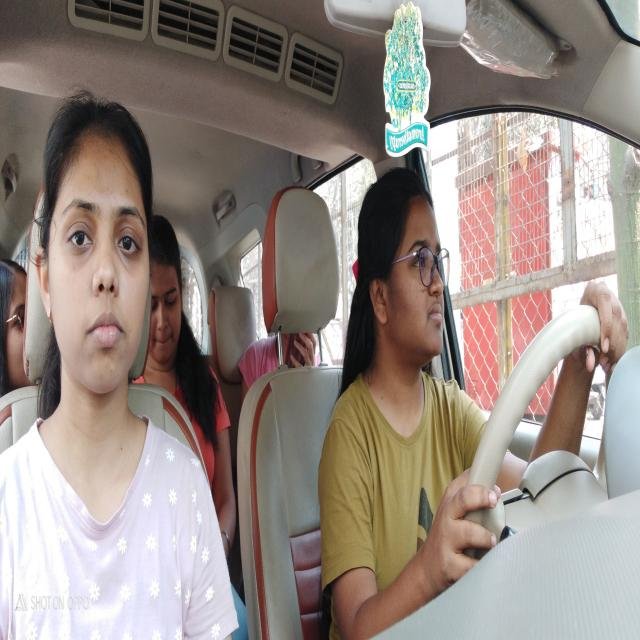person: (47, 120, 148, 392), (365, 186, 448, 364), (152, 230, 186, 368), (2, 268, 28, 381)
